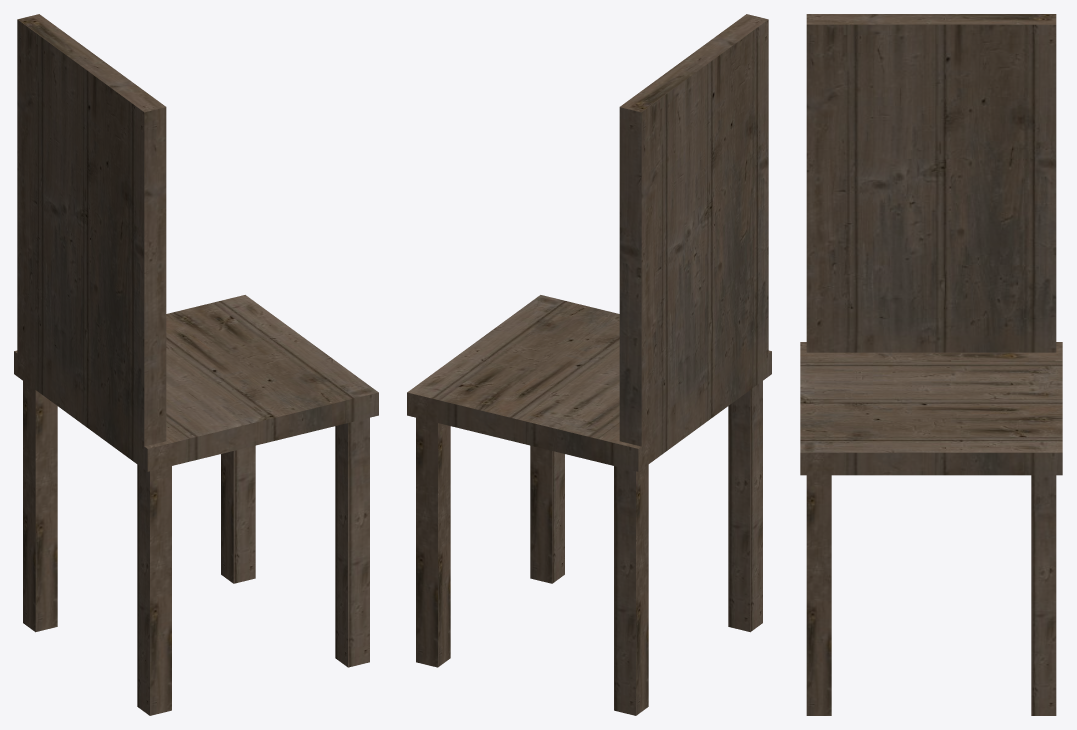
The model's file is wood_chair.glb.
3 renders of one model, left to right at view 1: azimuth 30°, elevation 25°; view 2: azimuth 150°, elevation 25°; view 3: azimuth 270°, elevation 25°, orthographic.
Parts seen in each view (by area): view 1: wood_chair; view 2: wood_chair; view 3: wood_chair.
Boxes of the visible parts, x1,y1,x2,y2 form: wood_chair: (14, 14, 378, 715); wood_chair: (407, 14, 771, 715); wood_chair: (800, 14, 1062, 715).
Bounding box in the file's own units: 0.42 × 1.05 × 0.42.
1 material, 1 textured.
